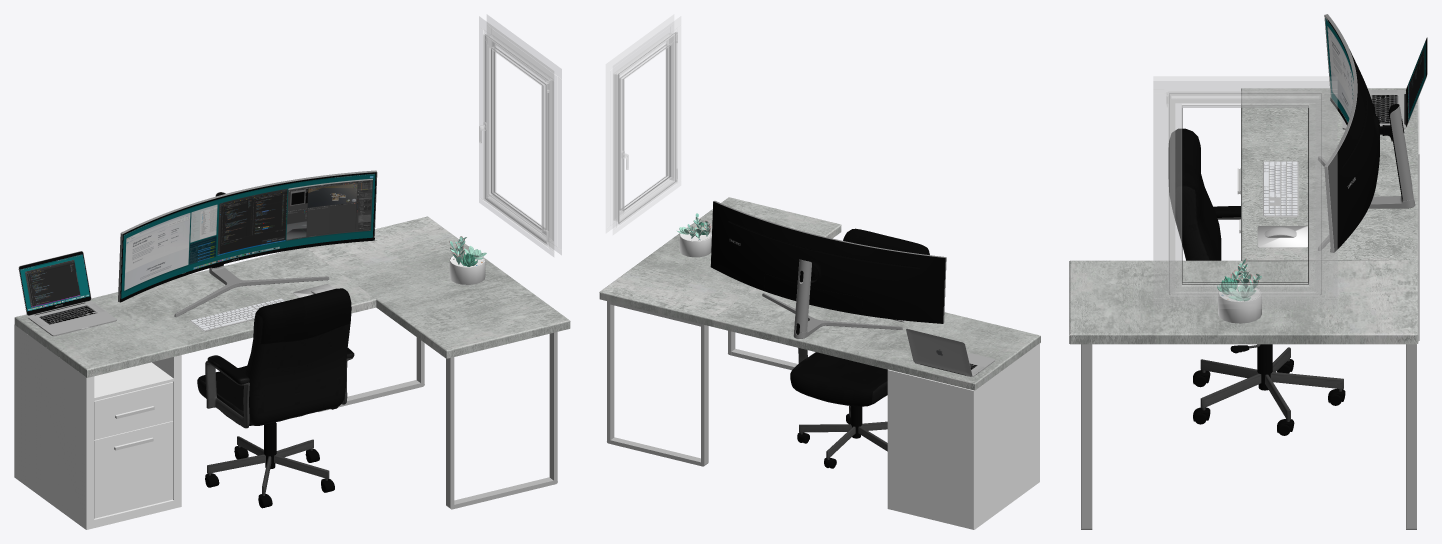
File: workdesk-window-transformed.glb
The picture shows the model from 3 angles, left to right: view 1: azimuth 30°, elevation 25°; view 2: azimuth 150°, elevation 25°; view 3: azimuth 270°, elevation 25°; orthographic projection. The views are drawn at different scales.
Parts seen in each view (by area): view 1: Table_Top_Side, Base, chair, ultrawide_screen, #WIN0003_Frame_#WIN0003_Textures_0, Node_5_Mat.3_0, Object_8.002, Object_4; view 2: Base, Node_5_Mat.3_0, Table_Top_Side, #WIN0003_Frame_#WIN0003_Textures_0, chair, Object_8.002; view 3: Table_Top_Side, #WIN0003_Frame_#WIN0003_Textures_0, Node_5_Mat.3_0, chair, Object_8.002, Object_4, ultrawide_screen, Base, plant.
Boxes of the visible parts, x1,y1,x2,y2 form: Table_Top_Side: [14, 216, 570, 377]; Base: [14, 252, 485, 529]; chair: [197, 288, 354, 508]; ultrawide_screen: [121, 173, 375, 298]; #WIN0003_Frame_#WIN0003_Textures_0: [479, 15, 561, 256]; Node_5_Mat.3_0: [118, 170, 557, 509]; Object_8.002: [18, 251, 116, 336]; Object_4: [191, 298, 284, 330]; Base: [679, 228, 1039, 529]; Node_5_Mat.3_0: [607, 201, 946, 466]; Table_Top_Side: [599, 197, 1040, 390]; #WIN0003_Frame_#WIN0003_Textures_0: [606, 15, 680, 234]; chair: [790, 228, 929, 468]; Object_8.002: [906, 328, 995, 376]; Table_Top_Side: [1069, 88, 1418, 344]; #WIN0003_Frame_#WIN0003_Textures_0: [1153, 76, 1337, 308]; Node_5_Mat.3_0: [1081, 14, 1416, 529]; chair: [1168, 128, 1345, 435]; Object_8.002: [1342, 37, 1427, 129]; Object_4: [1264, 161, 1297, 215]; ultrawide_screen: [1325, 18, 1353, 122]; Base: [1218, 97, 1419, 341]; plant: [1217, 259, 1261, 301].
Size of the model in its own units: 2.13 by 1.78 by 1.23.
Materials: 17 (16 with a texture image).
